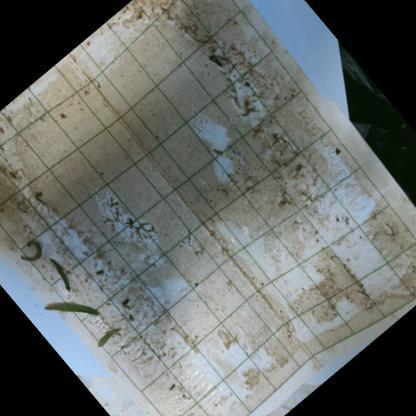prays_oleae: (120, 293, 138, 311)
